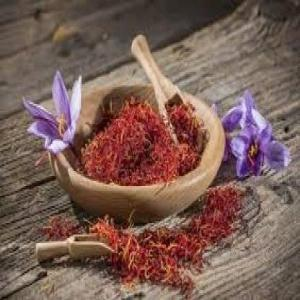Saffron: (21, 72, 83, 152), (229, 122, 294, 178)
